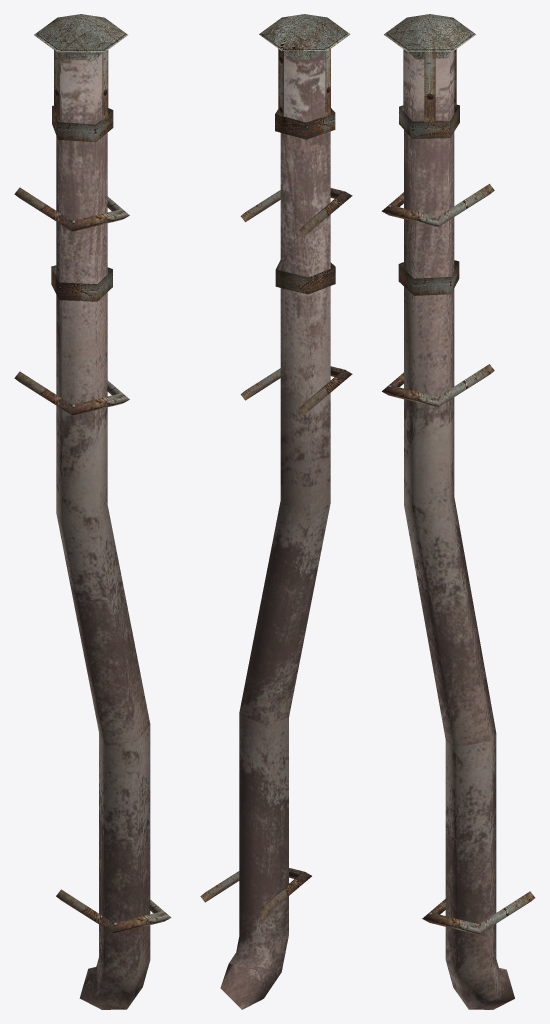
Rendered from Pipes_set_v1_vent_2 (3).glb.
3 views of the same model, side by side, from view 1: azimuth 30°, elevation 25°; view 2: azimuth 150°, elevation 25°; view 3: azimuth 330°, elevation 25° (orthographic). The views are drawn at different scales.
Visible parts, largest first — view 1: Pipes_set_v1_vent_2 (3); view 2: Pipes_set_v1_vent_2 (3); view 3: Pipes_set_v1_vent_2 (3).
Boxes of the visible parts, x1,y1,x2,y2 form: Pipes_set_v1_vent_2 (3): [14, 14, 171, 1009]; Pipes_set_v1_vent_2 (3): [200, 14, 352, 1009]; Pipes_set_v1_vent_2 (3): [381, 14, 535, 1009].
Bounding box in the file's own units: 0.4621 × 4.02 × 0.3914.
1 material, 1 textured.
